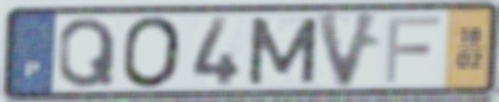4: (190, 13, 245, 89)
F: (381, 13, 444, 85)
M: (245, 15, 322, 87)
O: (121, 14, 185, 91)
Q: (56, 15, 119, 91)
V: (313, 9, 384, 91)
